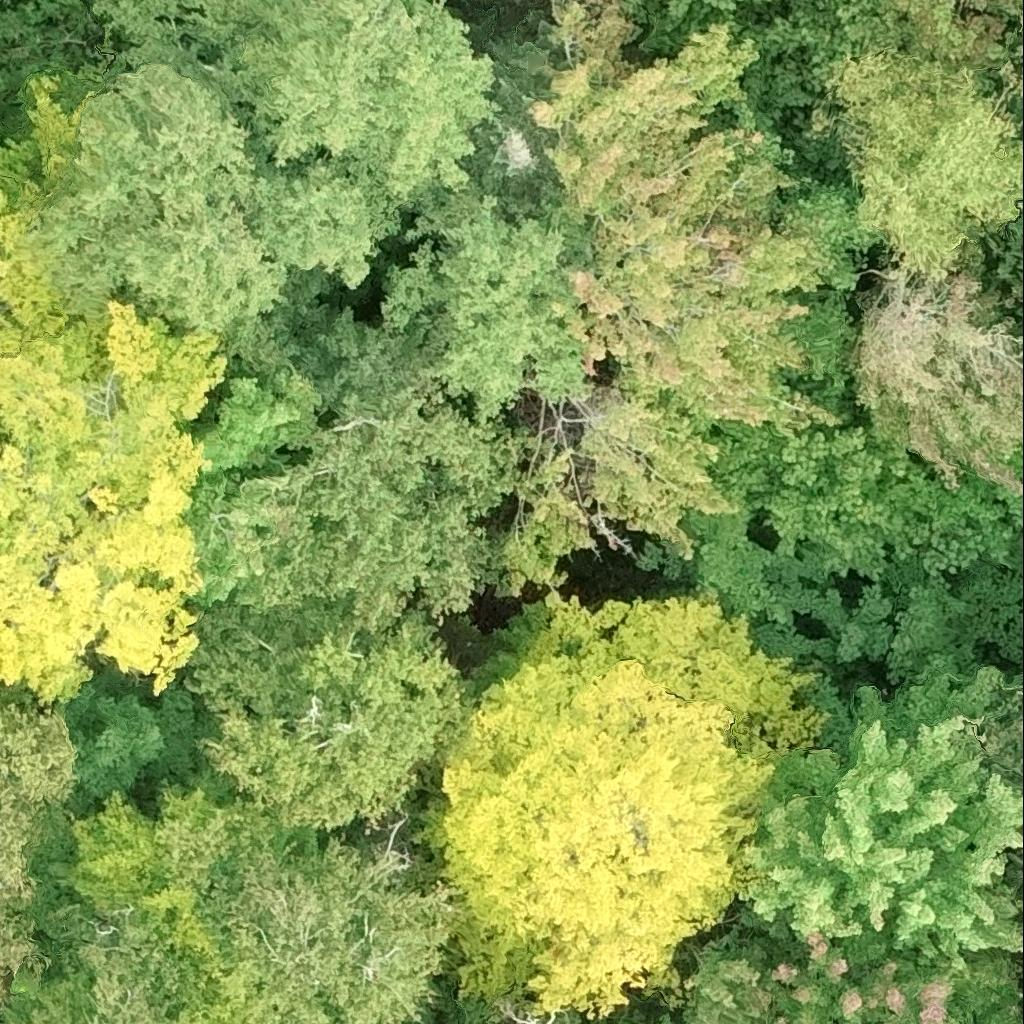crown: (423, 592, 831, 1015), (530, 0, 841, 438), (0, 302, 225, 702), (737, 666, 1023, 968), (99, 0, 499, 209), (237, 388, 532, 631), (33, 68, 290, 332), (183, 607, 465, 828), (381, 175, 593, 424), (813, 51, 1023, 281), (230, 836, 451, 1023), (762, 427, 1014, 582), (855, 269, 1023, 493), (774, 906, 1019, 1023), (0, 73, 100, 356), (581, 385, 732, 557), (768, 0, 1023, 96), (0, 706, 78, 998), (18, 907, 190, 1023), (252, 158, 402, 286), (457, 44, 559, 221), (685, 897, 809, 1023), (500, 445, 596, 586), (157, 800, 266, 924), (0, 0, 91, 91), (983, 677, 1023, 787), (668, 0, 756, 21), (1006, 845, 1023, 936), (538, 1011, 639, 1023), (618, 0, 660, 22), (1012, 953, 1023, 1023), (654, 1012, 674, 1023), (1018, 15, 1023, 32), (1019, 824, 1023, 834)
